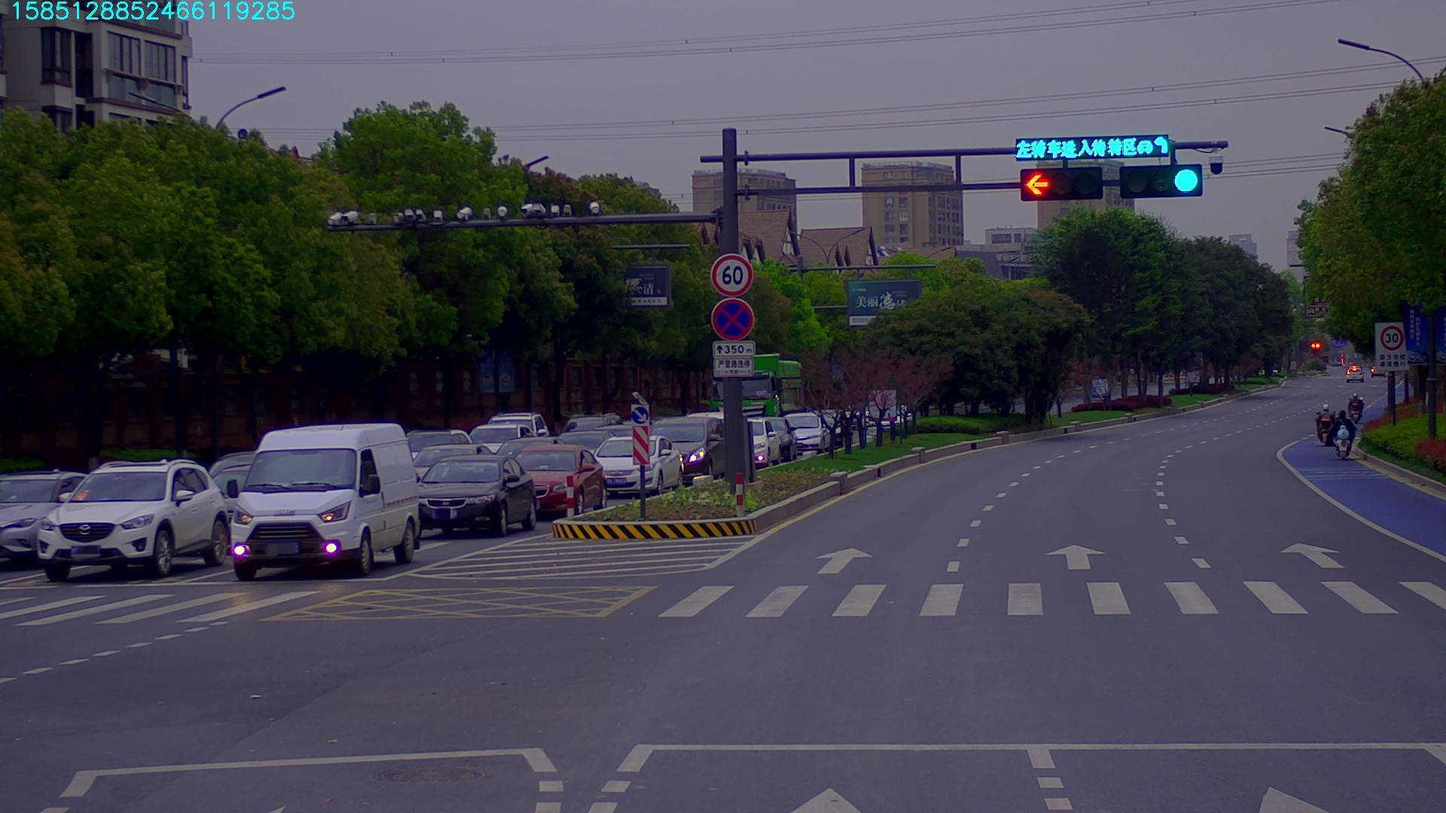green: (1124, 166, 1207, 196)
red: (1018, 173, 1092, 198)
wait_on: (1016, 140, 1165, 154)
